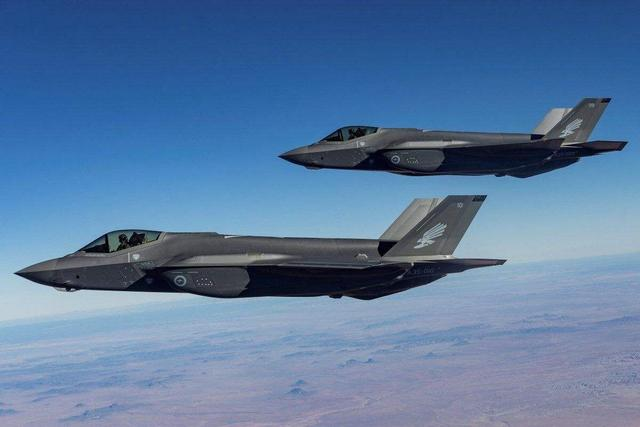airplane: (11, 187, 505, 300), (272, 90, 618, 176)
